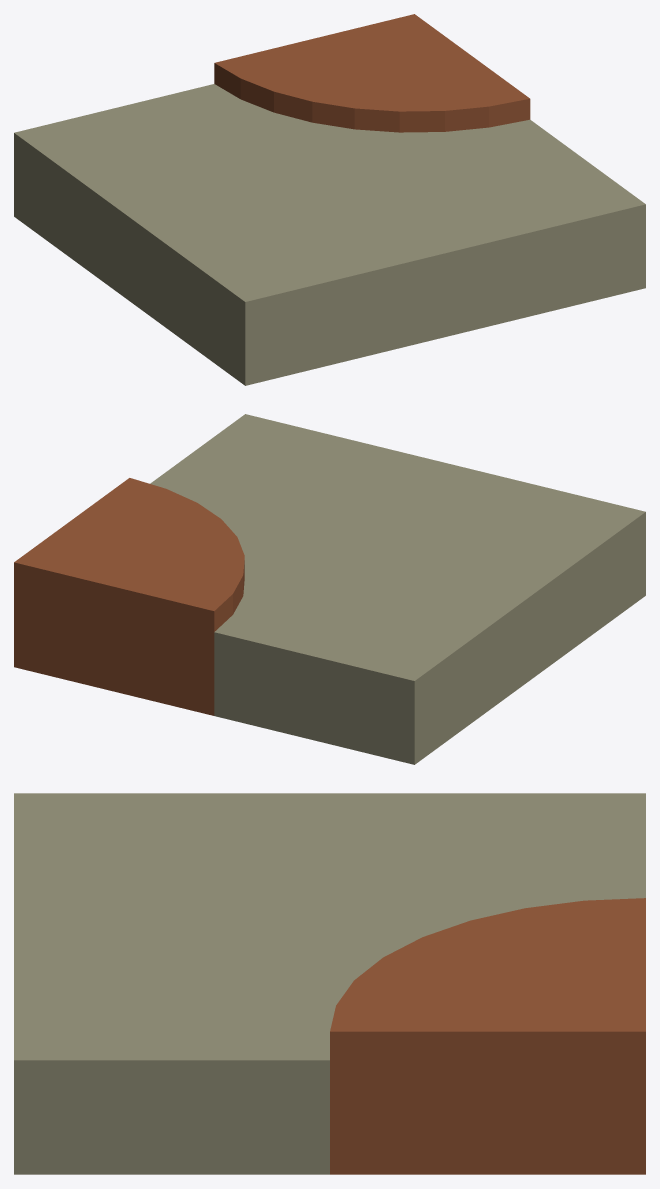
File: Floor-Outdoor-4x4x1-Path-Wide-Corner.FBX
The picture shows the model from 3 angles, top to bottom: view 1: azimuth 30°, elevation 25°; view 2: azimuth 150°, elevation 25°; view 3: azimuth 270°, elevation 25°; orthographic projection. The views are drawn at different scales.
Parts seen in each view (by area): view 1: Floor-Outdoor-4x4x1-Path-Wide-Corner; view 2: Floor-Outdoor-4x4x1-Path-Wide-Corner; view 3: Floor-Outdoor-4x4x1-Path-Wide-Corner.
Part boxes in pixels (<box>): Floor-Outdoor-4x4x1-Path-Wide-Corner: <box>14,14,645,385</box>; Floor-Outdoor-4x4x1-Path-Wide-Corner: <box>14,414,645,764</box>; Floor-Outdoor-4x4x1-Path-Wide-Corner: <box>14,793,645,1174</box>.
Size of the model in its own units: 40 by 40 by 10.
